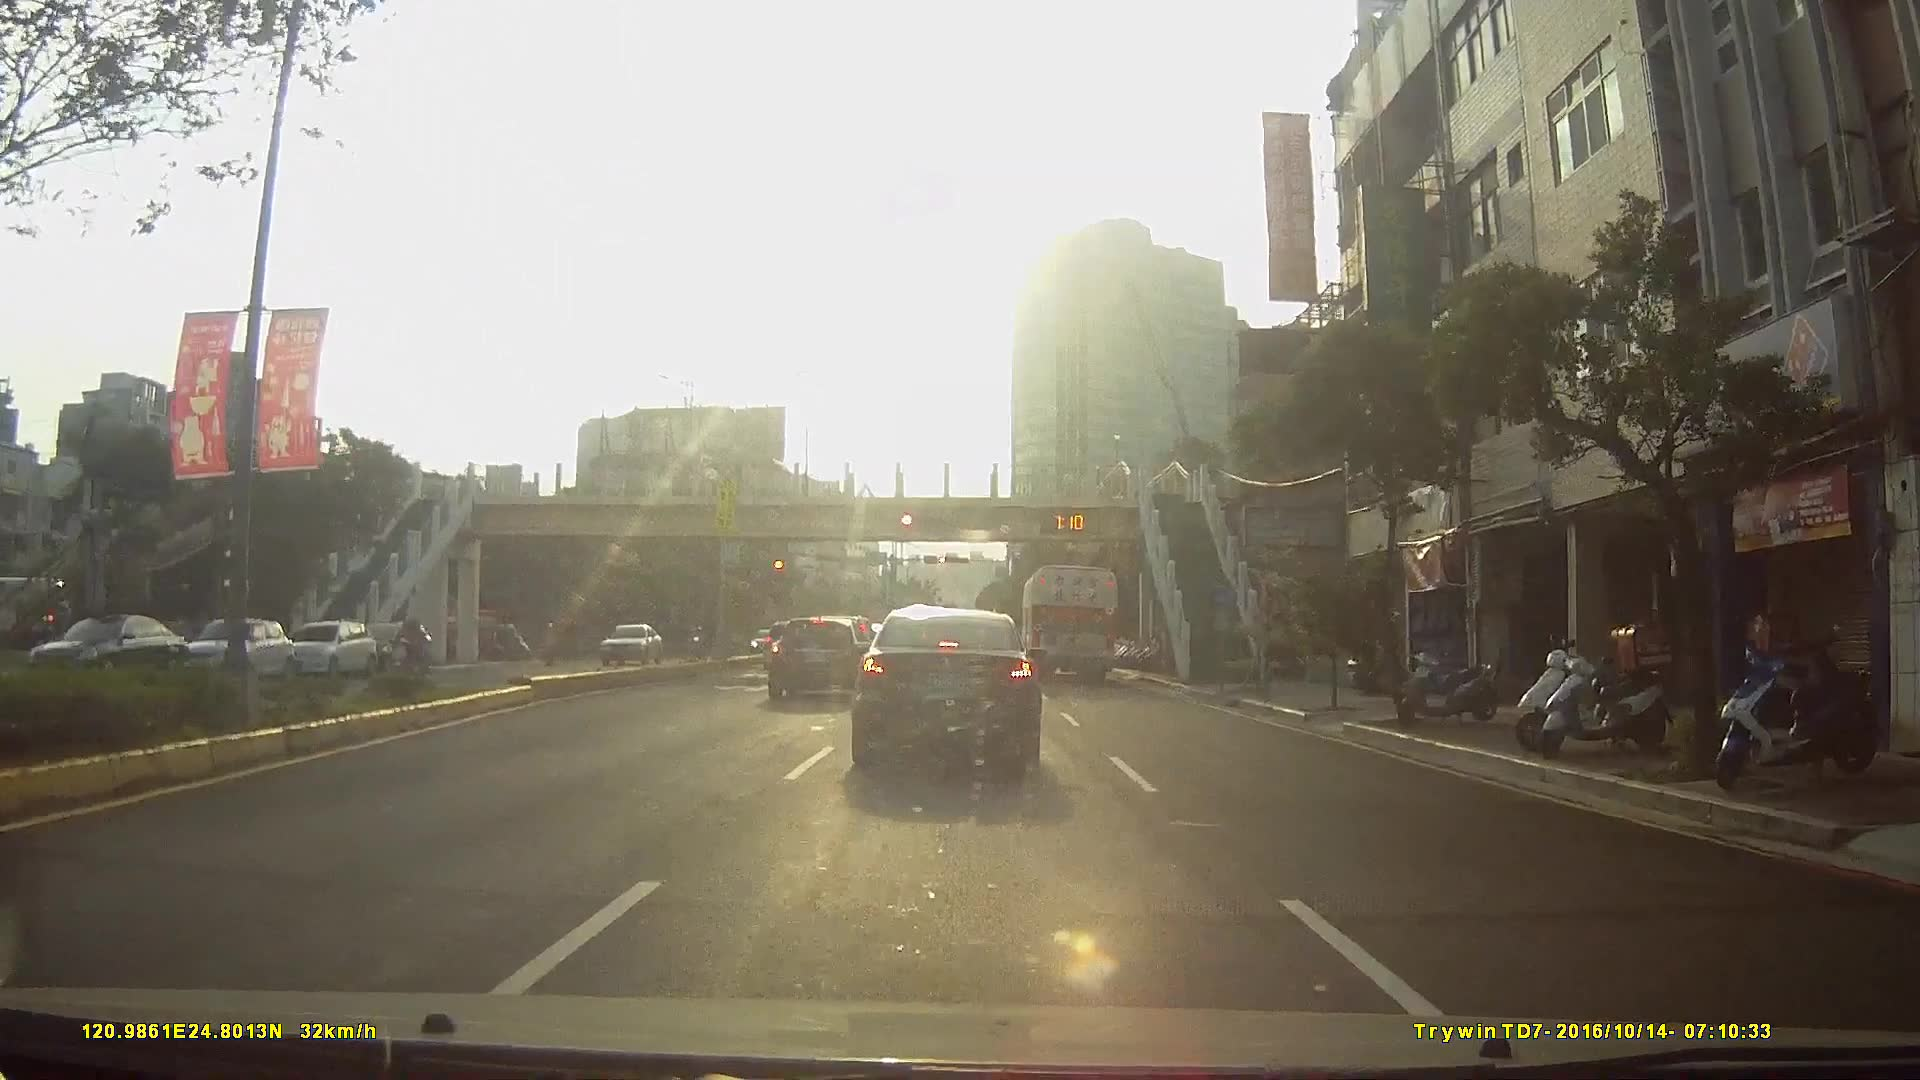rider: (383, 616, 431, 690)
vehicle: (847, 602, 1045, 769), (1019, 561, 1120, 683), (22, 611, 183, 686), (762, 613, 871, 702), (172, 616, 290, 683), (276, 618, 375, 676), (353, 618, 431, 675), (593, 620, 659, 666)
